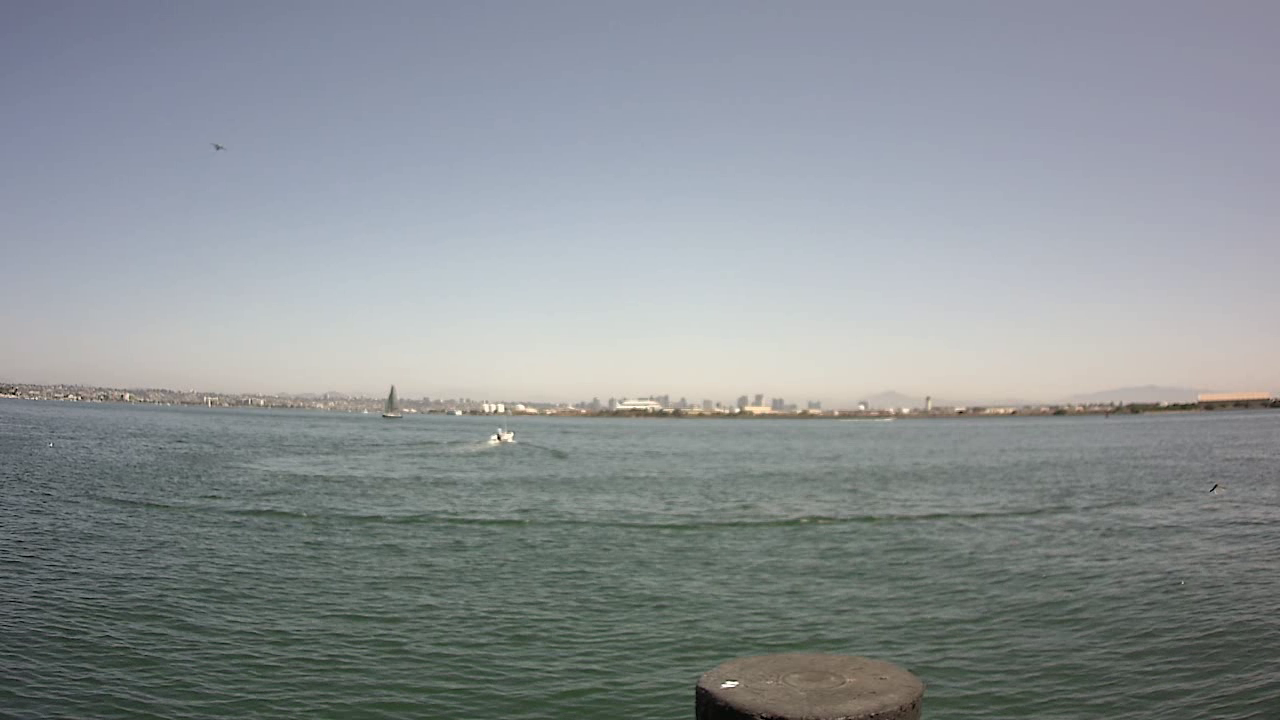target: (479, 416, 524, 451)
